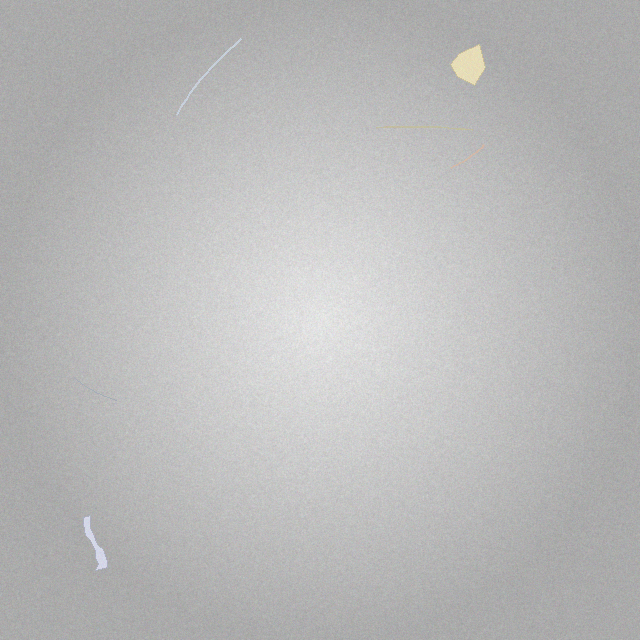fiber: (174, 38, 243, 117), (73, 376, 119, 402), (448, 144, 486, 170), (374, 124, 475, 132)
film: (83, 516, 108, 570)
fragment: (450, 44, 485, 86)
